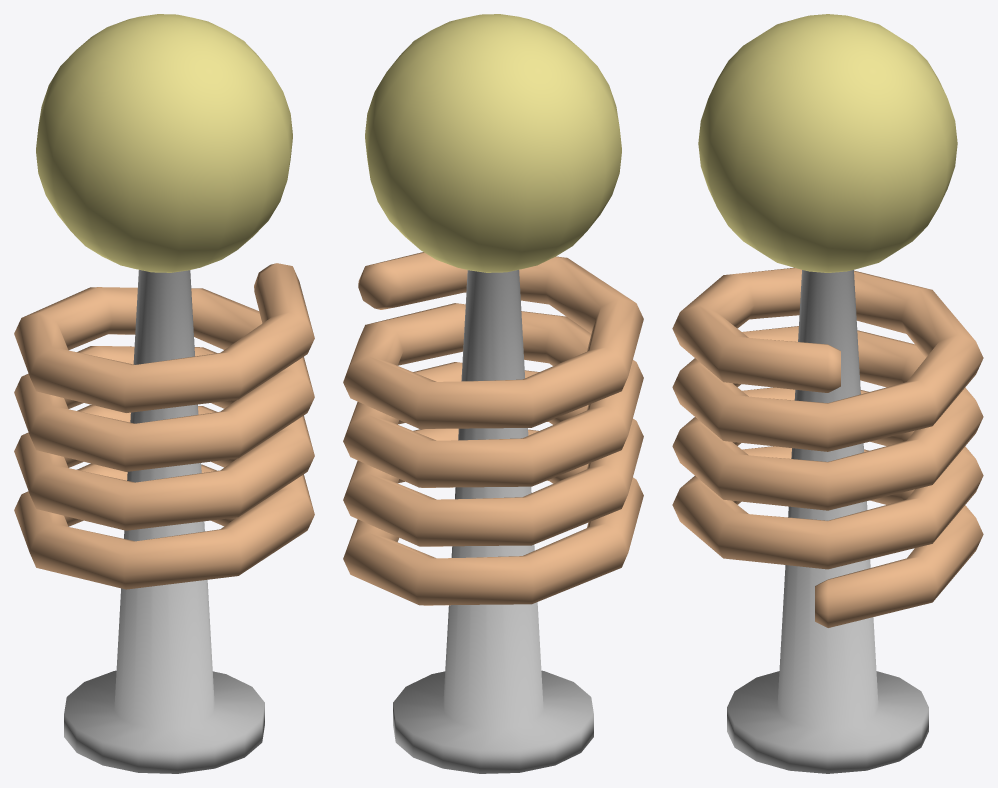
Rendered from Tesla_Coil_512.fbx.
3 views of the same model, side by side, from view 1: azimuth 30°, elevation 25°; view 2: azimuth 150°, elevation 25°; view 3: azimuth 270°, elevation 25° (orthographic).
Parts seen in each view (by area): view 1: Body, Coil; view 2: Body, Coil; view 3: Body, Coil.
Boxes of the visible parts, x1,y1,x2,y2 form: Body: (36,14,292,773); Coil: (14,263,314,589); Body: (365,14,621,773); Coil: (343,252,643,605); Body: (698,14,957,773); Coil: (672,267,983,627).
Size of the model in its own units: 240 by 600 by 240.
